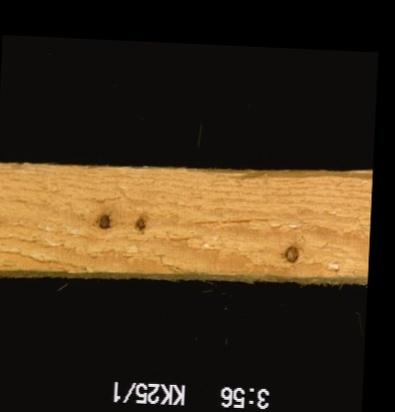dry_knot: (283, 243, 299, 263), (132, 216, 146, 234), (97, 212, 110, 229)
split: (187, 214, 284, 231)
wave: (234, 166, 371, 187)
